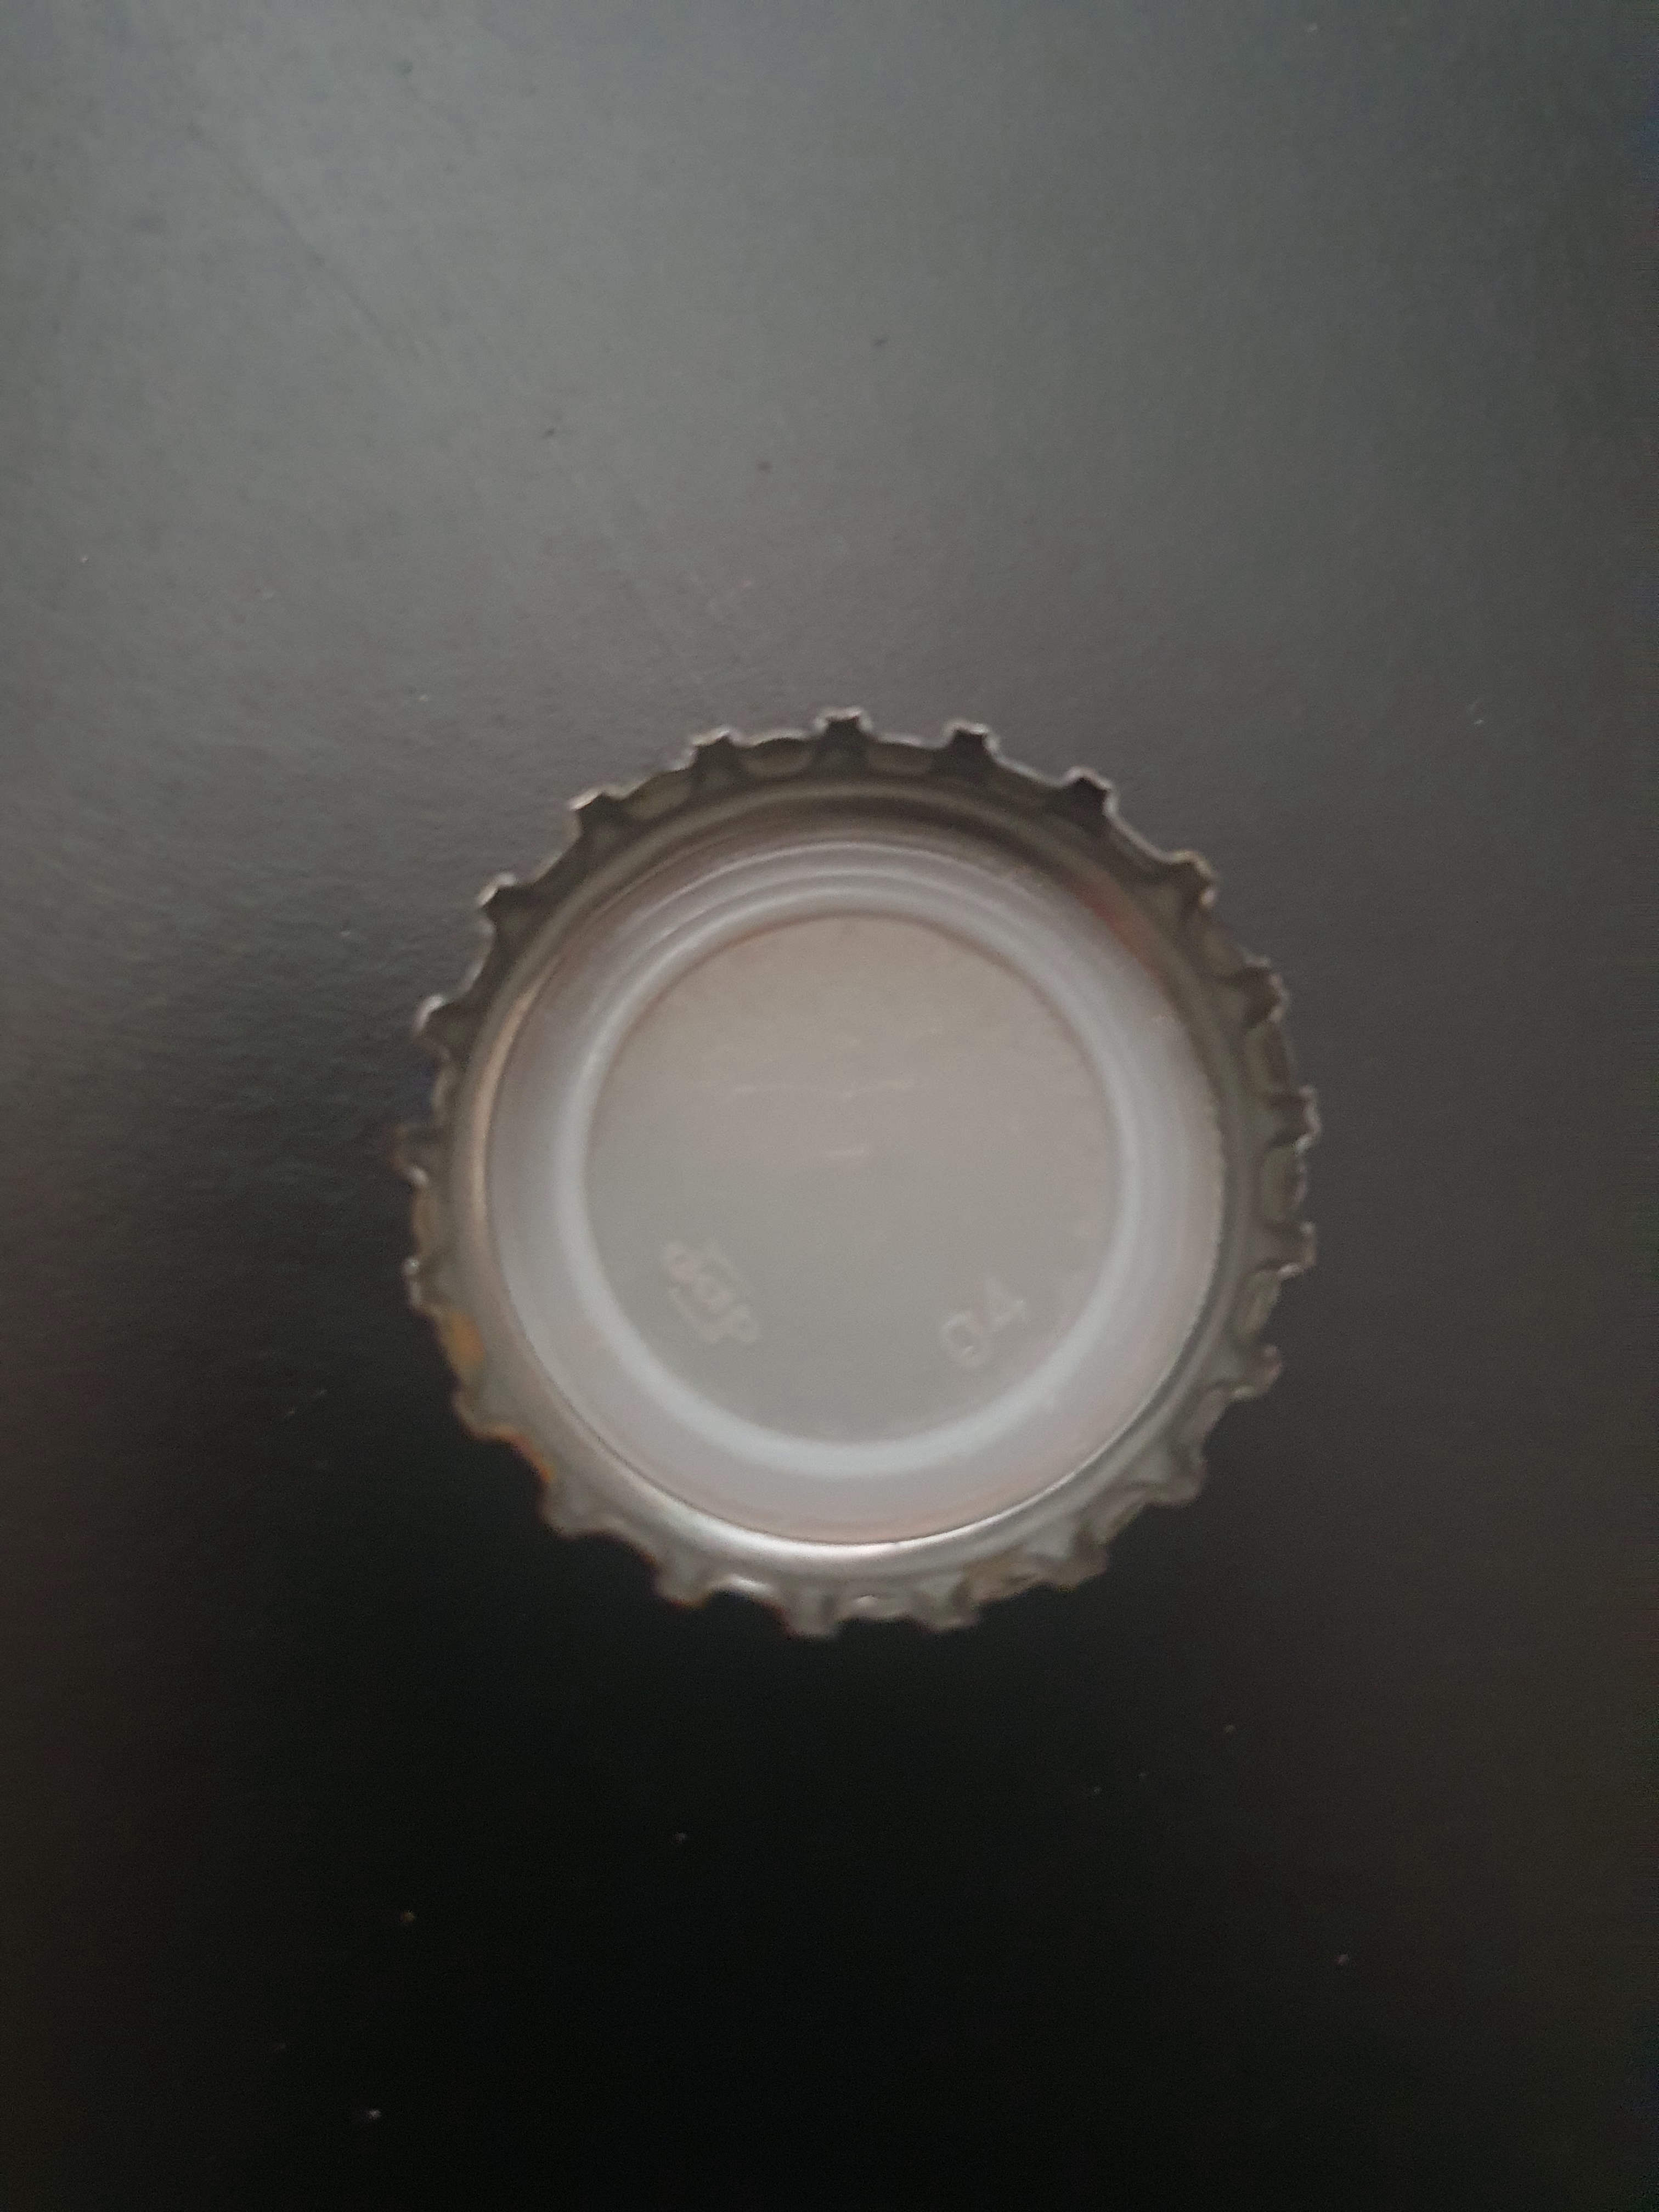metal: (364, 667, 1349, 1709)
